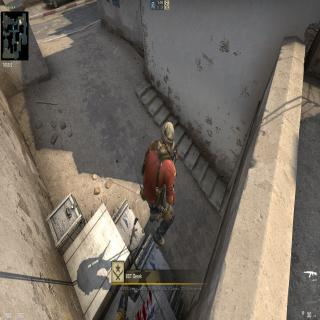T-Head: (160, 119, 176, 152)
